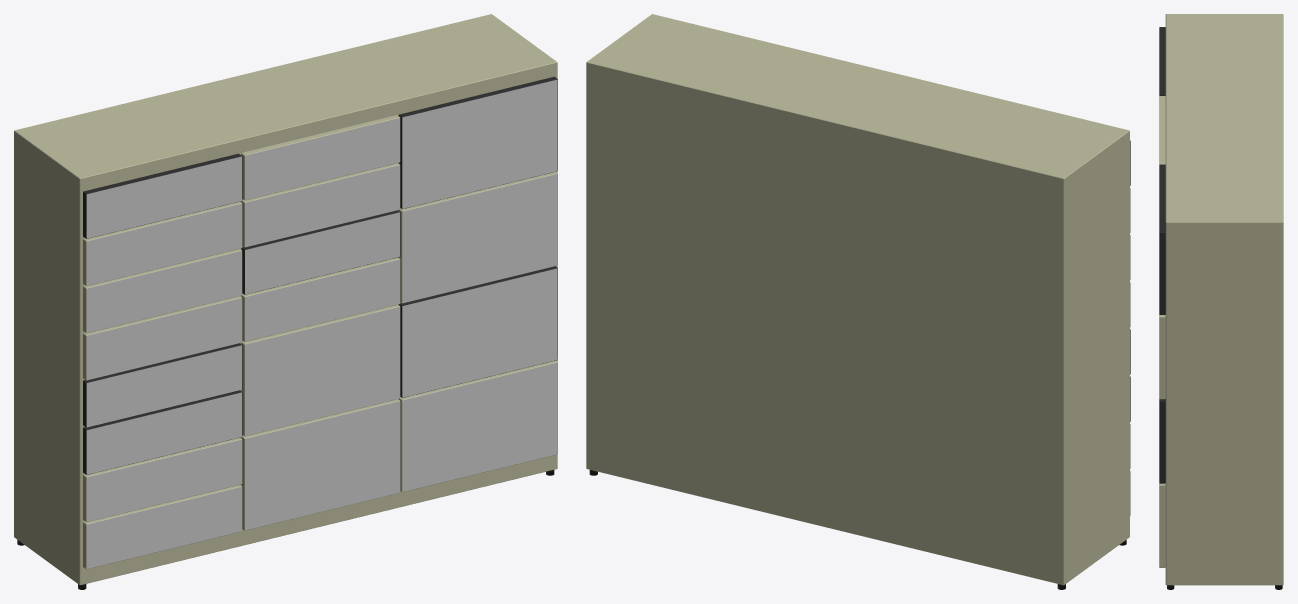
Rendered from grand rangement.obj.
The picture shows the model from 3 angles, left to right: view 1: azimuth 30°, elevation 25°; view 2: azimuth 150°, elevation 25°; view 3: azimuth 270°, elevation 25°; orthographic projection. The views are drawn at different scales.
Visible parts, largest first — view 1: 1, 5, 4, 7, 6, 3; view 2: 1; view 3: 1, 3.
Boxes of the visible parts, bbox=[...] form: 1: bbox=[14, 14, 557, 585]; 5: bbox=[245, 174, 557, 530]; 4: bbox=[86, 118, 399, 568]; 7: bbox=[402, 79, 557, 397]; 6: bbox=[86, 156, 399, 474]; 3: bbox=[83, 76, 557, 474]; 1: bbox=[586, 14, 1130, 585]; 1: bbox=[1159, 14, 1283, 585]; 3: bbox=[1159, 27, 1165, 483].
Size of the model in its own units: 212 by 175 by 53.5.
